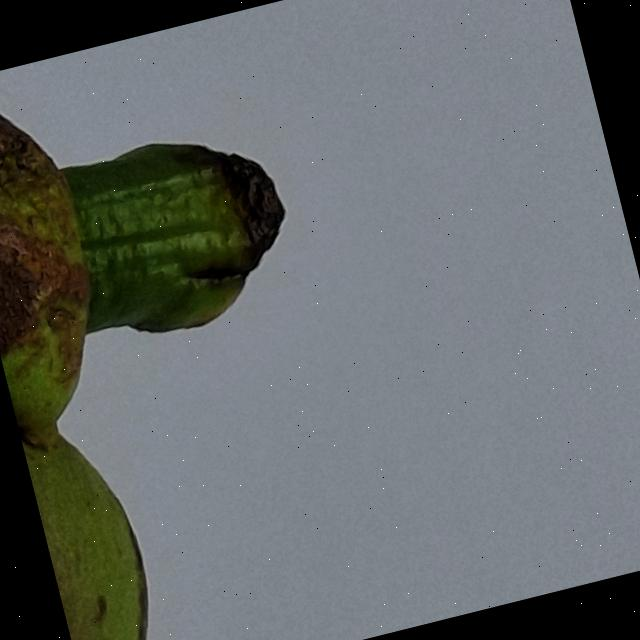mangosteen: (0, 2, 426, 640)
